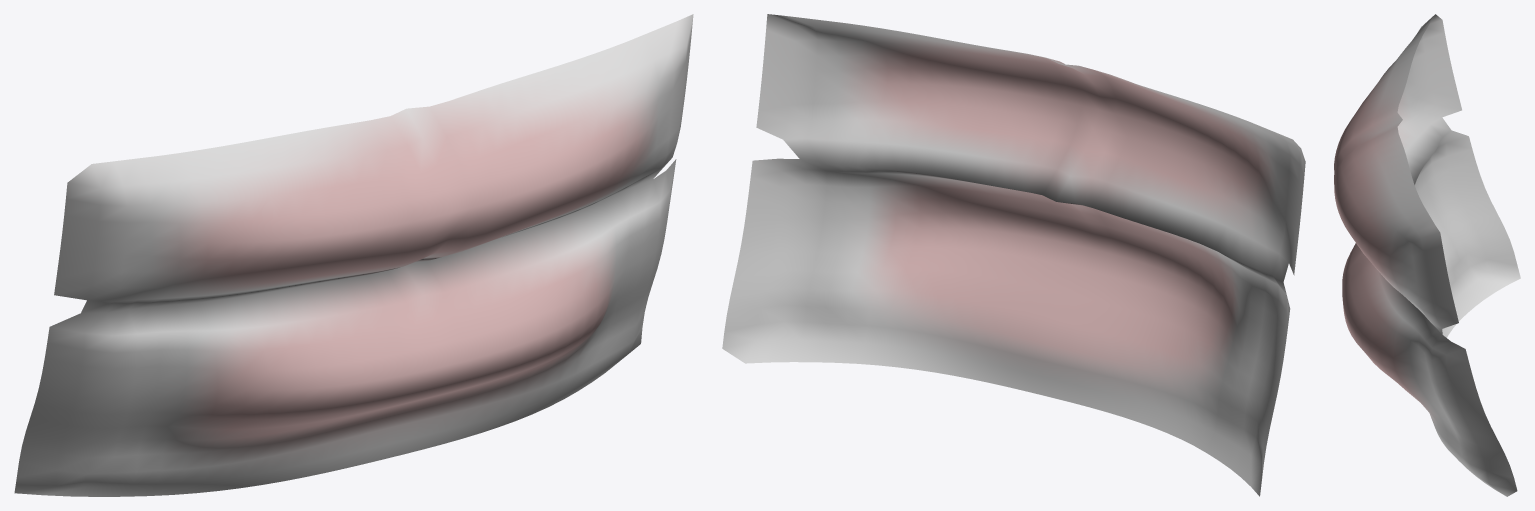
File: levres_homme.glb
3 views of the same model, side by side, from view 1: azimuth 30°, elevation 25°; view 2: azimuth 150°, elevation 25°; view 3: azimuth 270°, elevation 25° (orthographic). The views are drawn at different scales.
Parts seen in each view (by area): view 1: levres_homme; view 2: levres_homme; view 3: levres_homme.
Part boxes in pixels (box(x1,y1,x2,y2)): levres_homme: box(14, 14, 693, 496); levres_homme: box(722, 14, 1305, 496); levres_homme: box(1334, 14, 1520, 496).
Size of the model in its own units: 0.0569 by 0.0319 by 0.0199.
